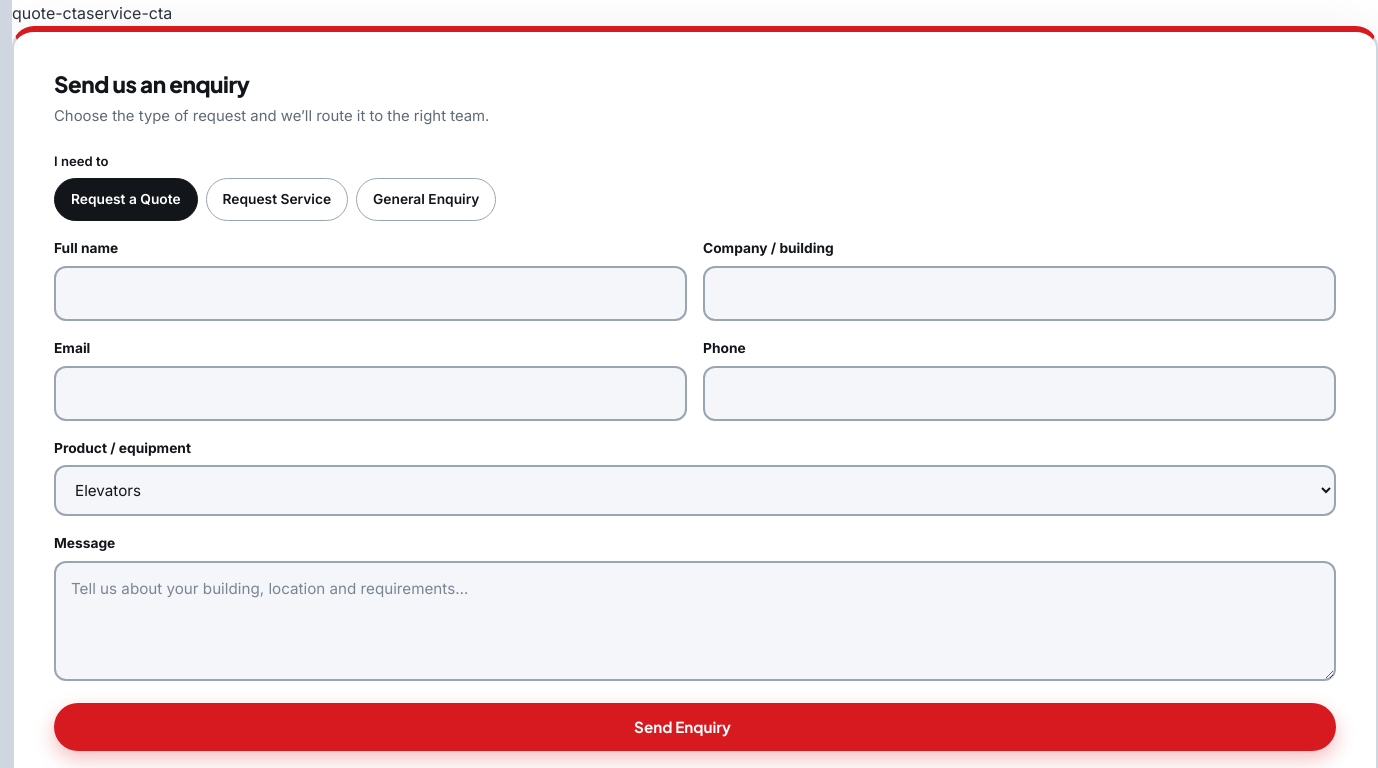
Test: EnquiryForm › does not show the success message when required fields are empty
Step 1. Click the button "Send Enquiry" → (695, 727), box [54,703,1336,751]
(page scrolled)
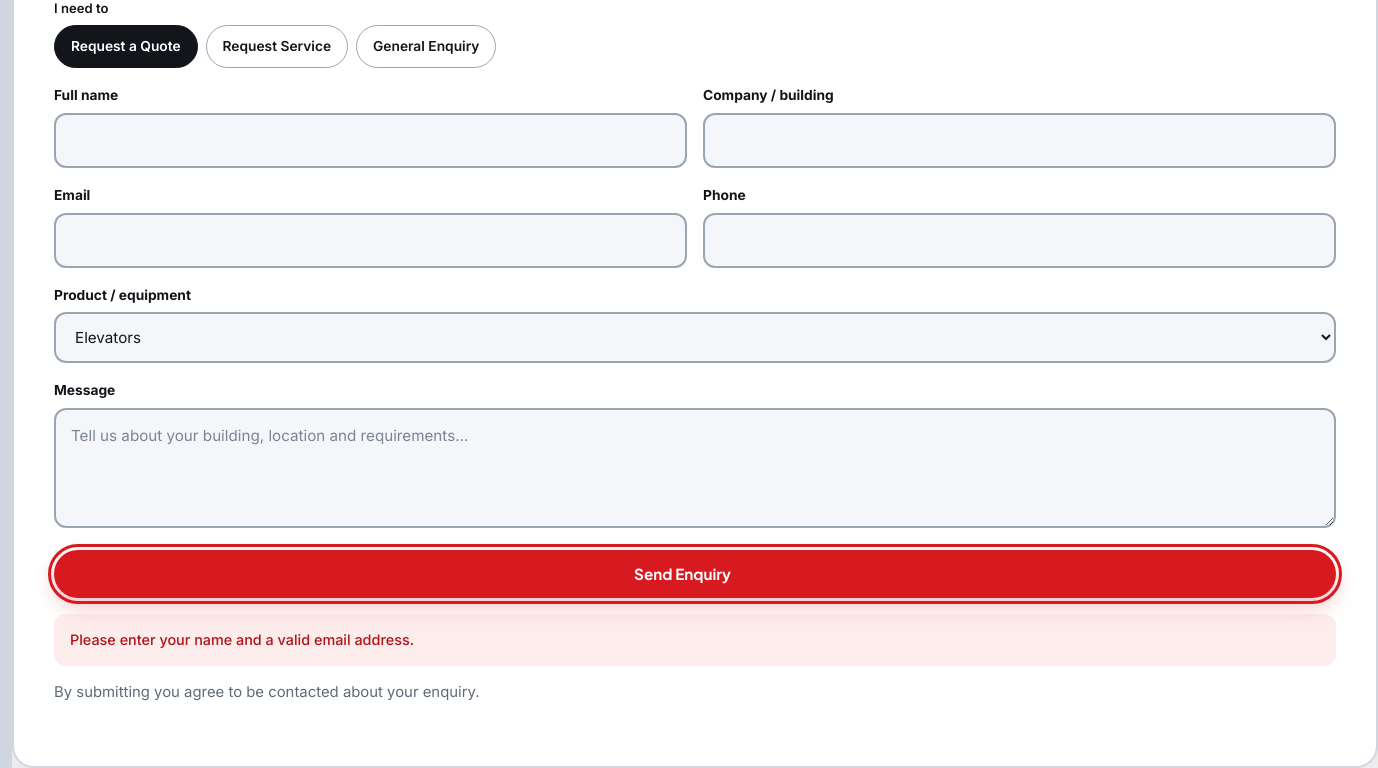
Expected: the message does not show "Form preview: your details are valid, but this form is not connected to email or a CRM yet, so nothing has been sent.", [54,614,1336,666]
Expected: the message reads "Please enter your name and a valid email address.", [70,631,414,648]
